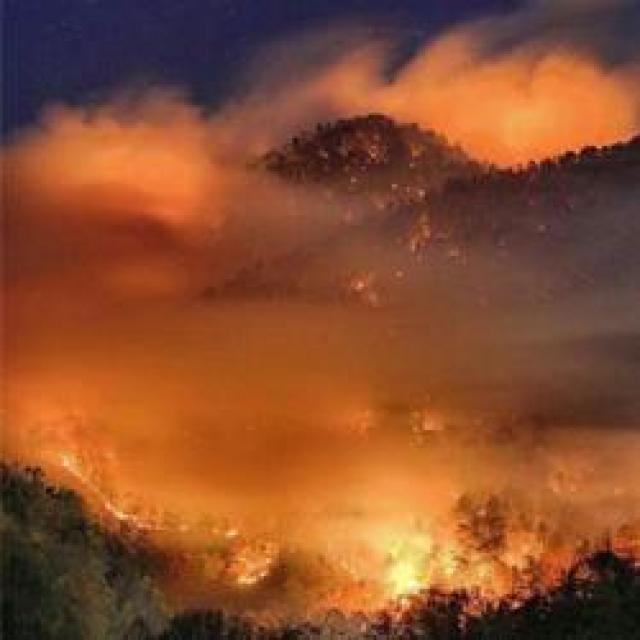Fire: (59, 448, 145, 528), (376, 556, 428, 605)
Smoke: (2, 149, 631, 616), (262, 35, 624, 141)
